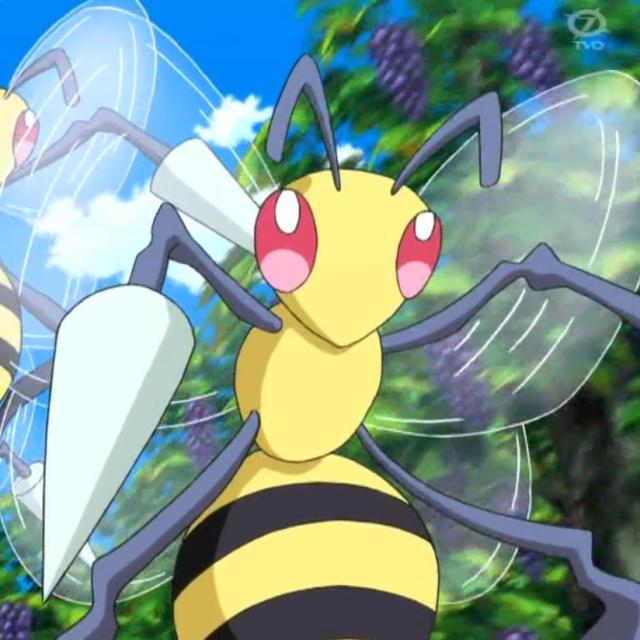Beedrill: (49, 85, 541, 640)
